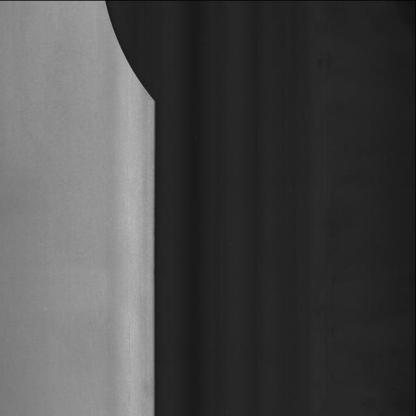crescent_gap: (101, 0, 170, 114)
